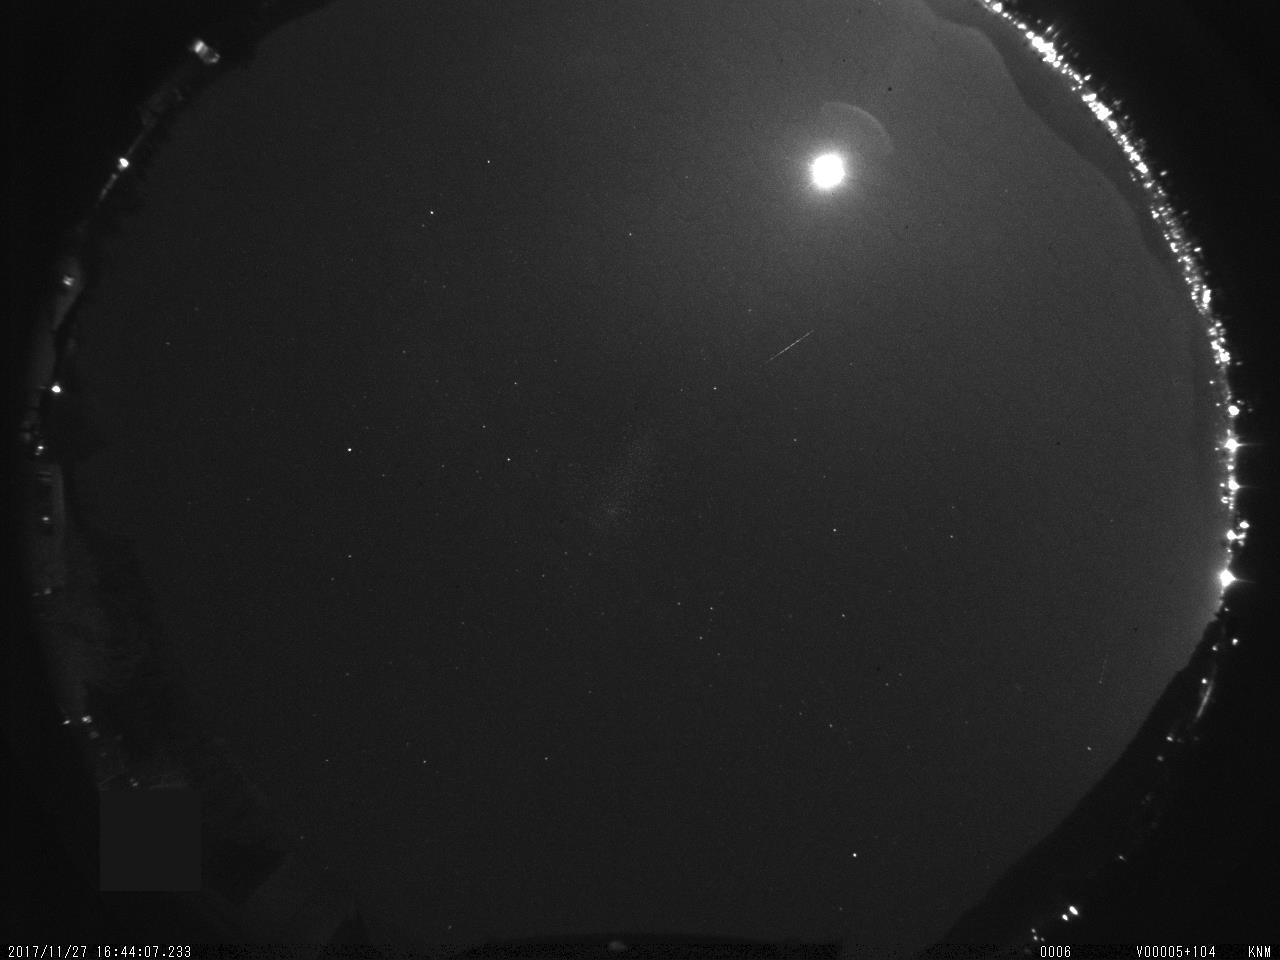Meteor: (756, 319, 822, 374)
